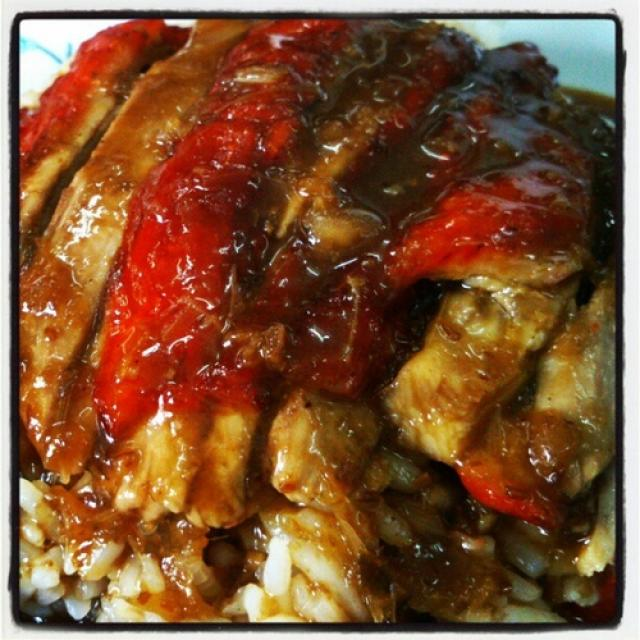米饭主食: (32, 32, 599, 602)
